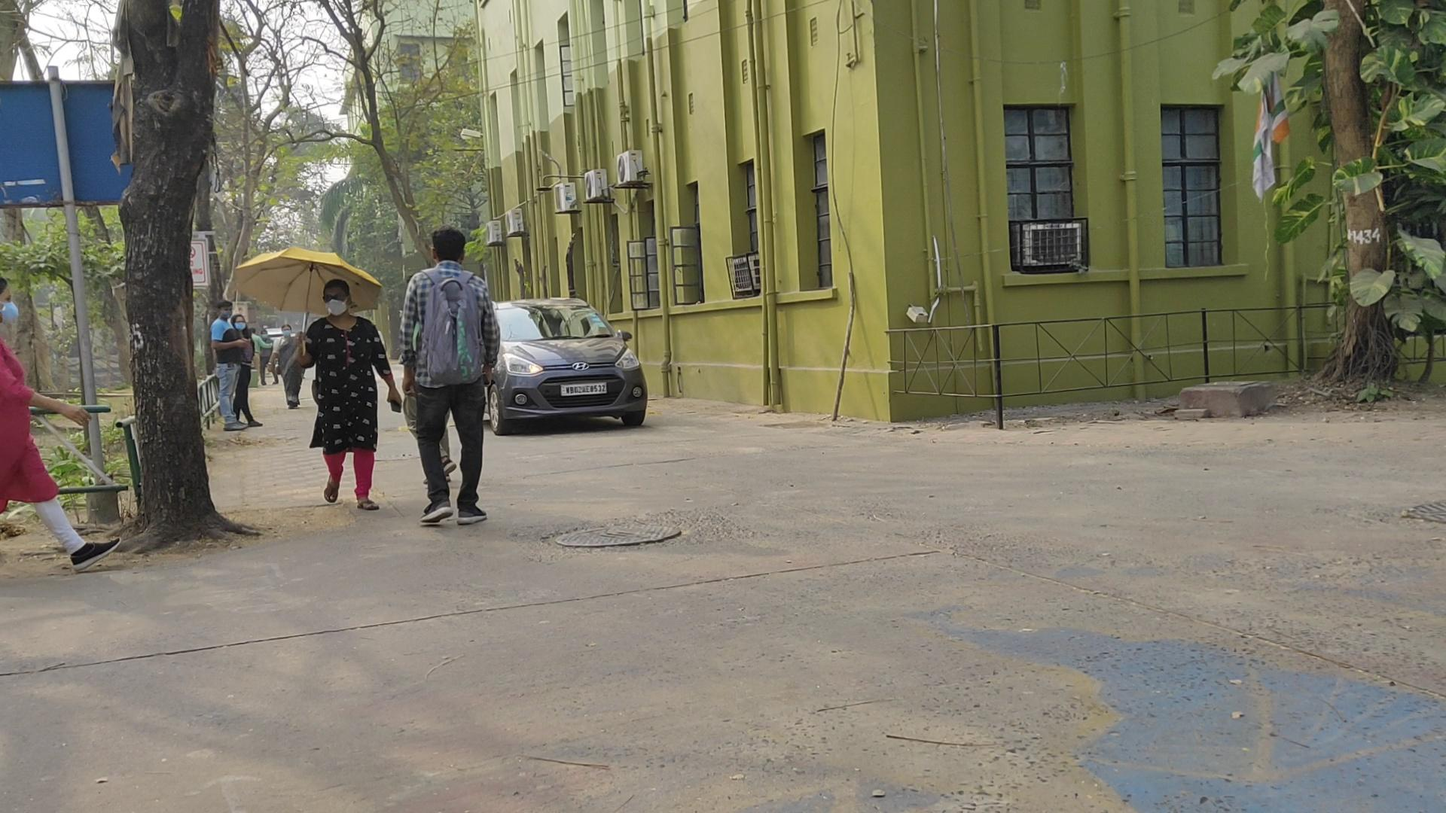car: (475, 299, 648, 434)
